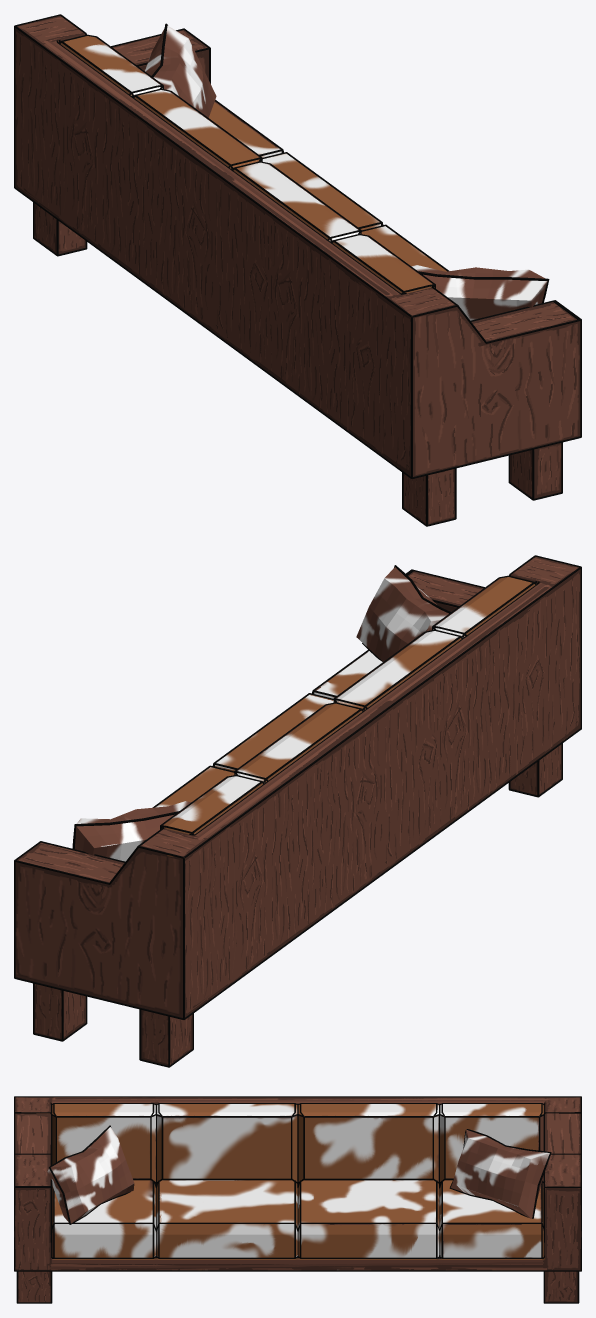
The model's file is sofa_old.glb.
3 renders of one model, top to bottom at view 1: azimuth 30°, elevation 25°; view 2: azimuth 150°, elevation 25°; view 3: azimuth 270°, elevation 25°, orthographic. The views are drawn at different scales.
Parts seen in each view (by area): view 1: Cube.001; view 2: Cube.001; view 3: Cube.001.
Boxes of the visible parts, x1,y1,x2,y2 form: Cube.001: (14, 14, 581, 526); Cube.001: (14, 555, 581, 1067); Cube.001: (14, 1096, 581, 1303).
Bounding box in the file's own units: 2.14 × 2.44 × 8.15.
Materials: 3 (2 with a texture image).
